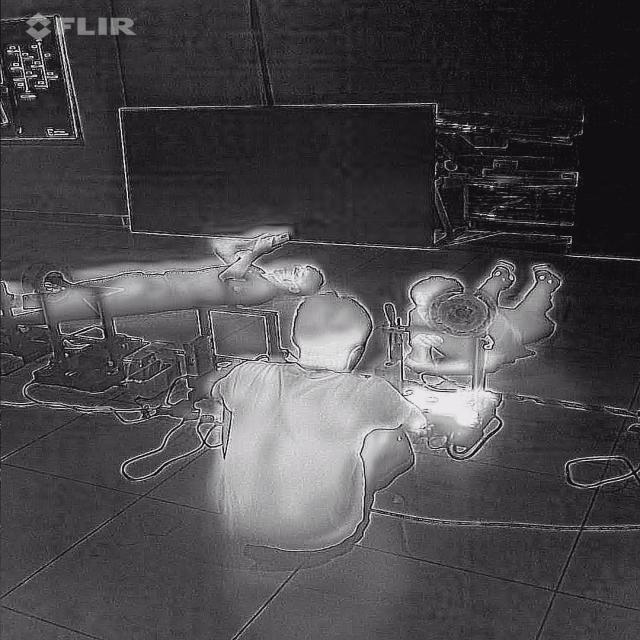Victim: (191, 281, 418, 571), (0, 225, 344, 324), (402, 253, 562, 383)
